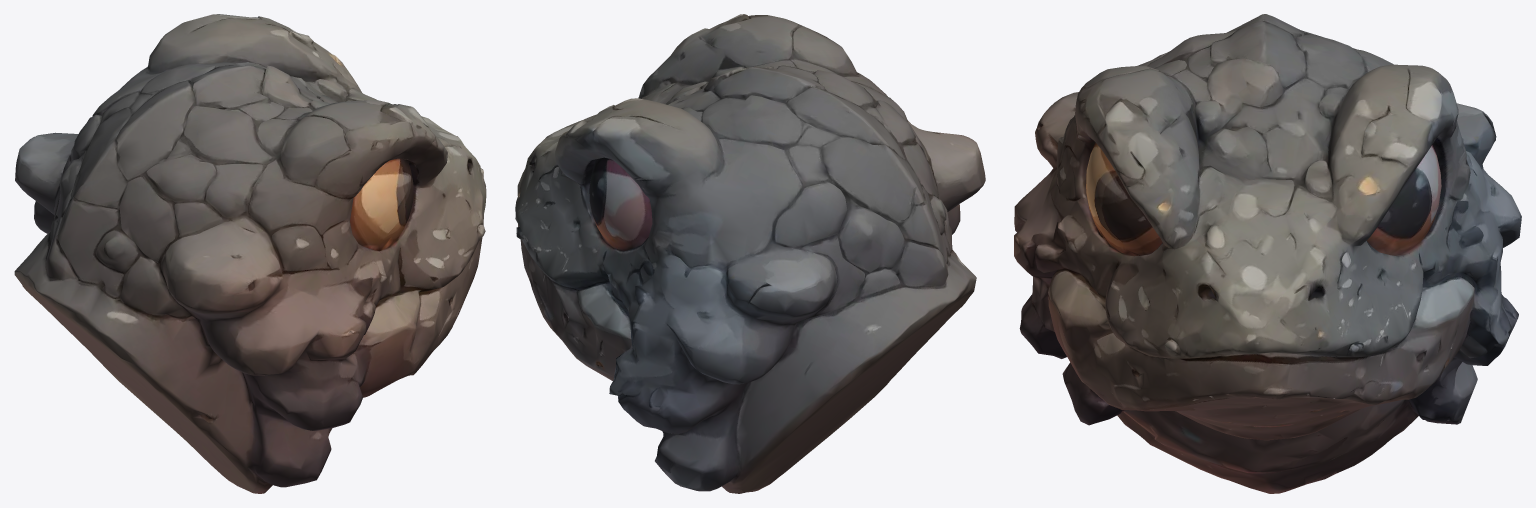
The model's file is head.glb.
3 renders of one model, left to right at view 1: azimuth 30°, elevation 25°; view 2: azimuth 150°, elevation 25°; view 3: azimuth 270°, elevation 25°, orthographic. The views are drawn at different scales.
Parts seen in each view (by area): view 1: tripo_node_919023f0-ad6c-419b-aa3c-10ad7664fe96; view 2: tripo_node_919023f0-ad6c-419b-aa3c-10ad7664fe96; view 3: tripo_node_919023f0-ad6c-419b-aa3c-10ad7664fe96.
Boxes of the visible parts, x1=… form: tripo_node_919023f0-ad6c-419b-aa3c-10ad7664fe96: x1=14, y1=14, x2=486, y2=493; tripo_node_919023f0-ad6c-419b-aa3c-10ad7664fe96: x1=515, y1=14, x2=985, y2=493; tripo_node_919023f0-ad6c-419b-aa3c-10ad7664fe96: x1=1014, y1=14, x2=1521, y2=493.
Bounding box in the file's own units: 1 × 0.9047 × 0.9184.
Materials: 1 (1 with a texture image).
